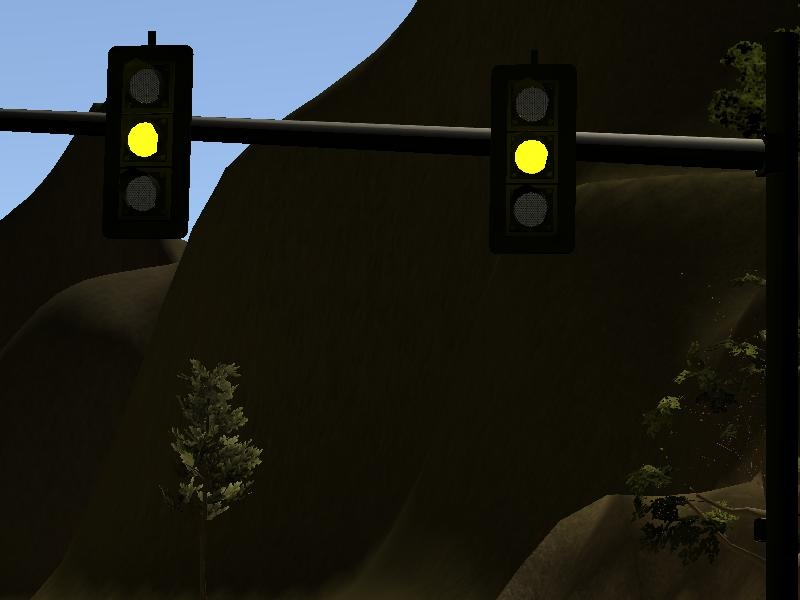yellow: (85, 24, 199, 250), (473, 46, 589, 261)
